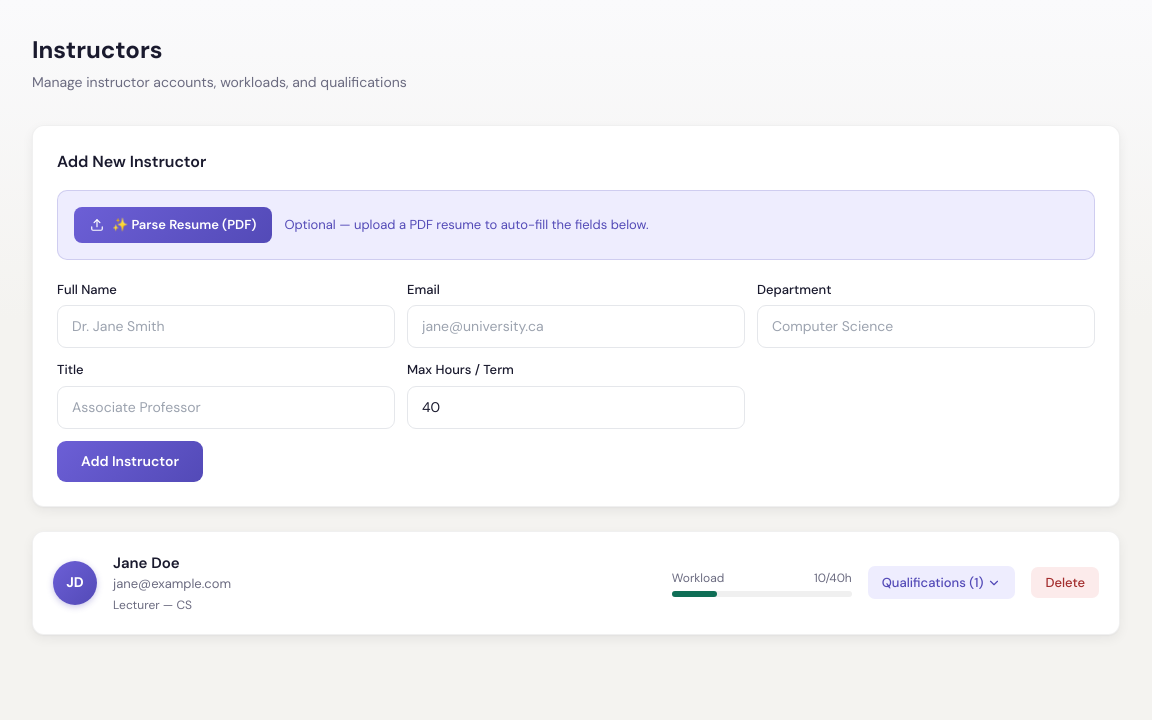
Test: AdminInstructors › validates the new-instructor form
Check: the text "Jane Doe" is shown, box [113,552,180,572]
Click the button "Add Instructor": click(130, 461) [57,440,203,482]
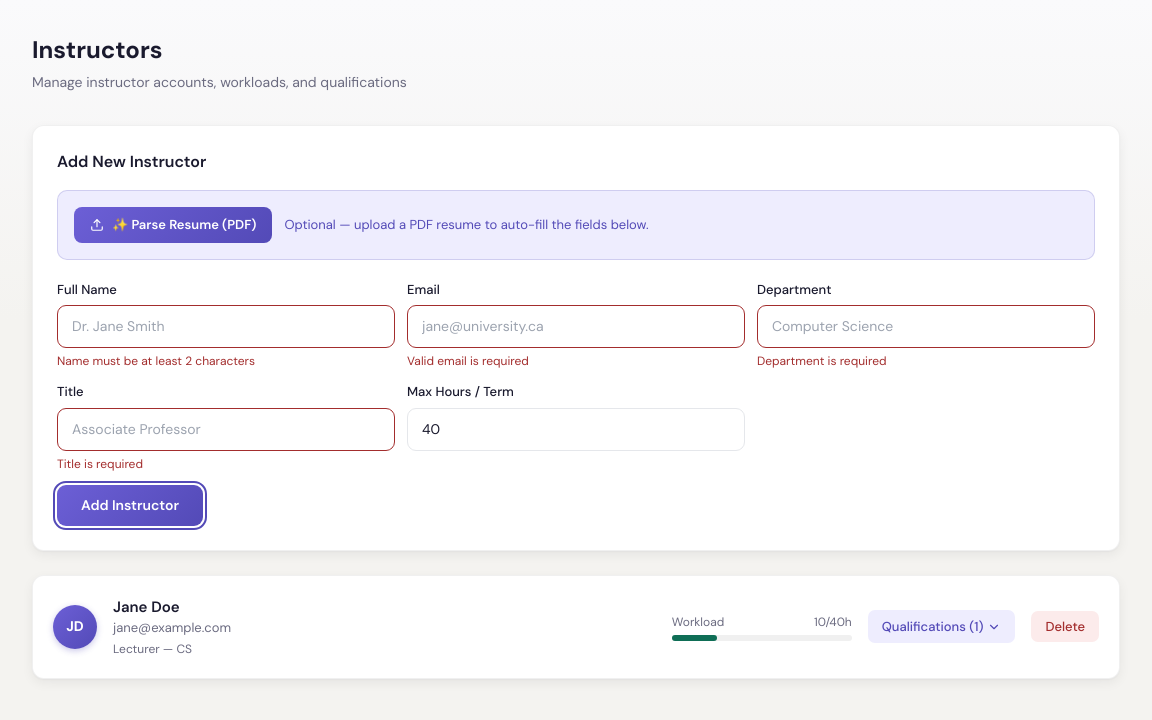
Check: the text "Name must be at least 2 characters" is shown, box [57,353,255,369]
Check: the text "Valid email is required" is shown, box [407,353,529,369]
Check: the text "Department is required" is shown, box [757,353,886,369]
